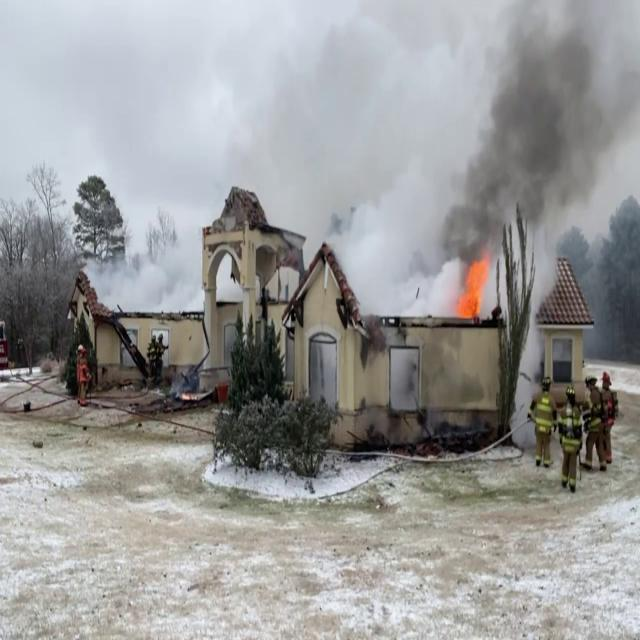Fire: (456, 247, 494, 322)
Smoke: (435, 0, 640, 254), (96, 239, 199, 315)
